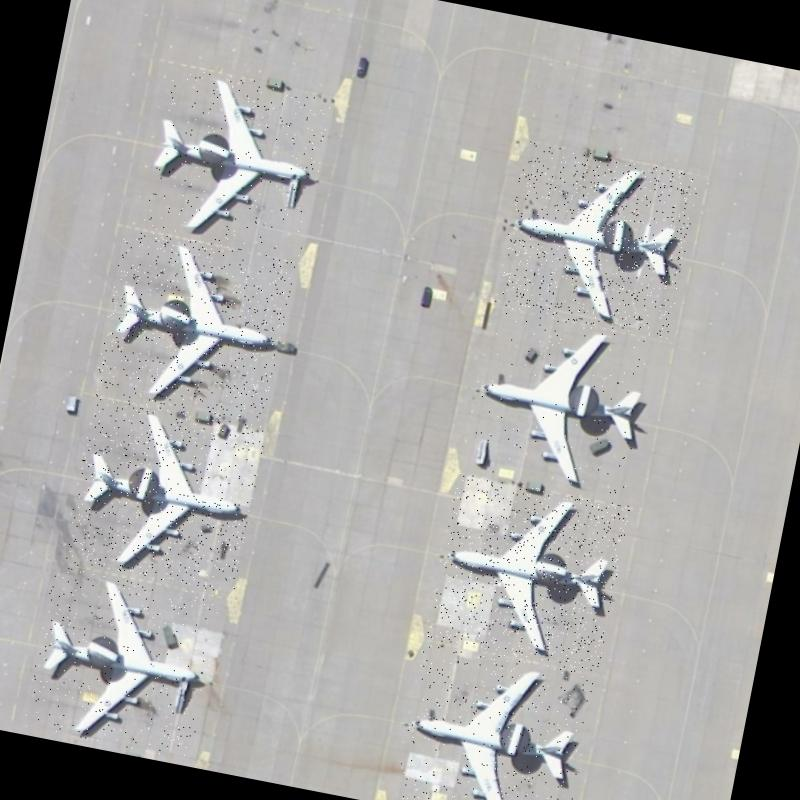A7: (493, 140, 700, 339), (62, 393, 266, 594), (426, 472, 630, 670), (23, 560, 224, 760), (93, 226, 296, 424), (142, 62, 334, 258), (466, 308, 658, 499), (393, 637, 597, 800)
